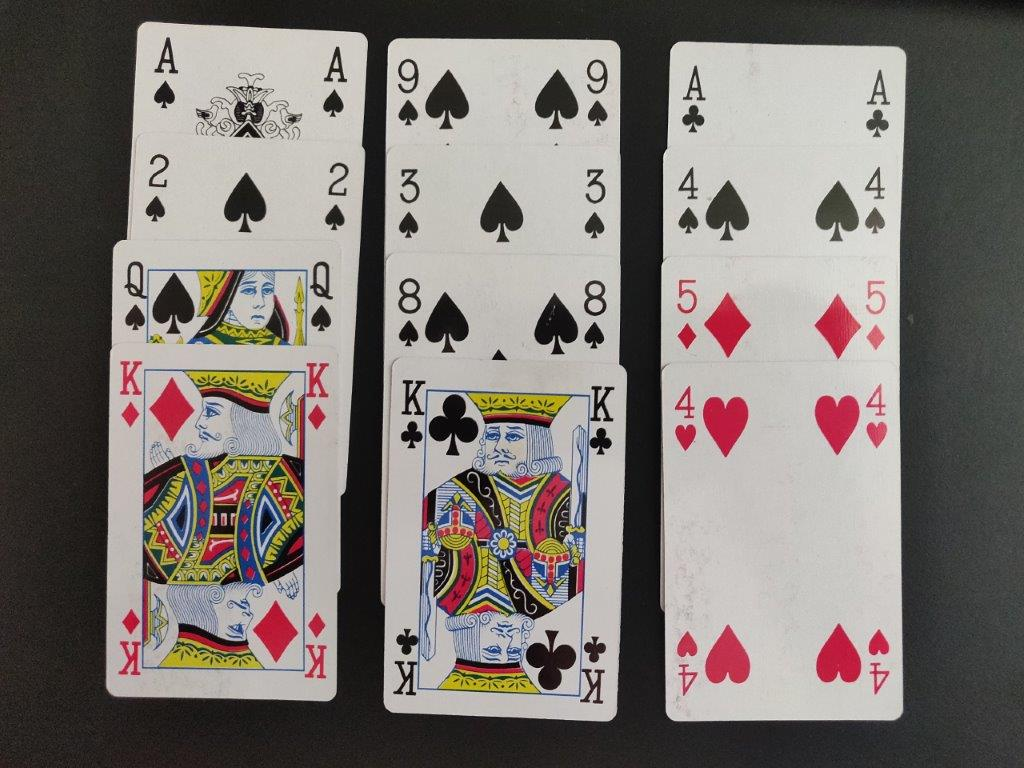2S: (139, 149, 174, 231), (318, 156, 352, 235)
3S: (580, 160, 611, 241), (395, 163, 423, 241)
4H: (666, 380, 702, 457), (861, 381, 892, 454)
4S: (672, 160, 704, 241), (860, 164, 890, 240)
5D: (669, 273, 702, 354), (859, 272, 890, 356)
8S: (392, 272, 424, 353), (579, 276, 611, 354)
9S: (391, 55, 423, 130), (581, 56, 612, 133)
AC: (861, 63, 895, 144), (677, 62, 711, 139)
AS: (144, 31, 185, 115), (318, 41, 350, 126)
KC: (393, 374, 430, 455), (585, 380, 618, 464)
KD: (111, 354, 150, 435), (300, 357, 335, 437)
QS: (116, 256, 153, 337), (305, 257, 337, 337)
